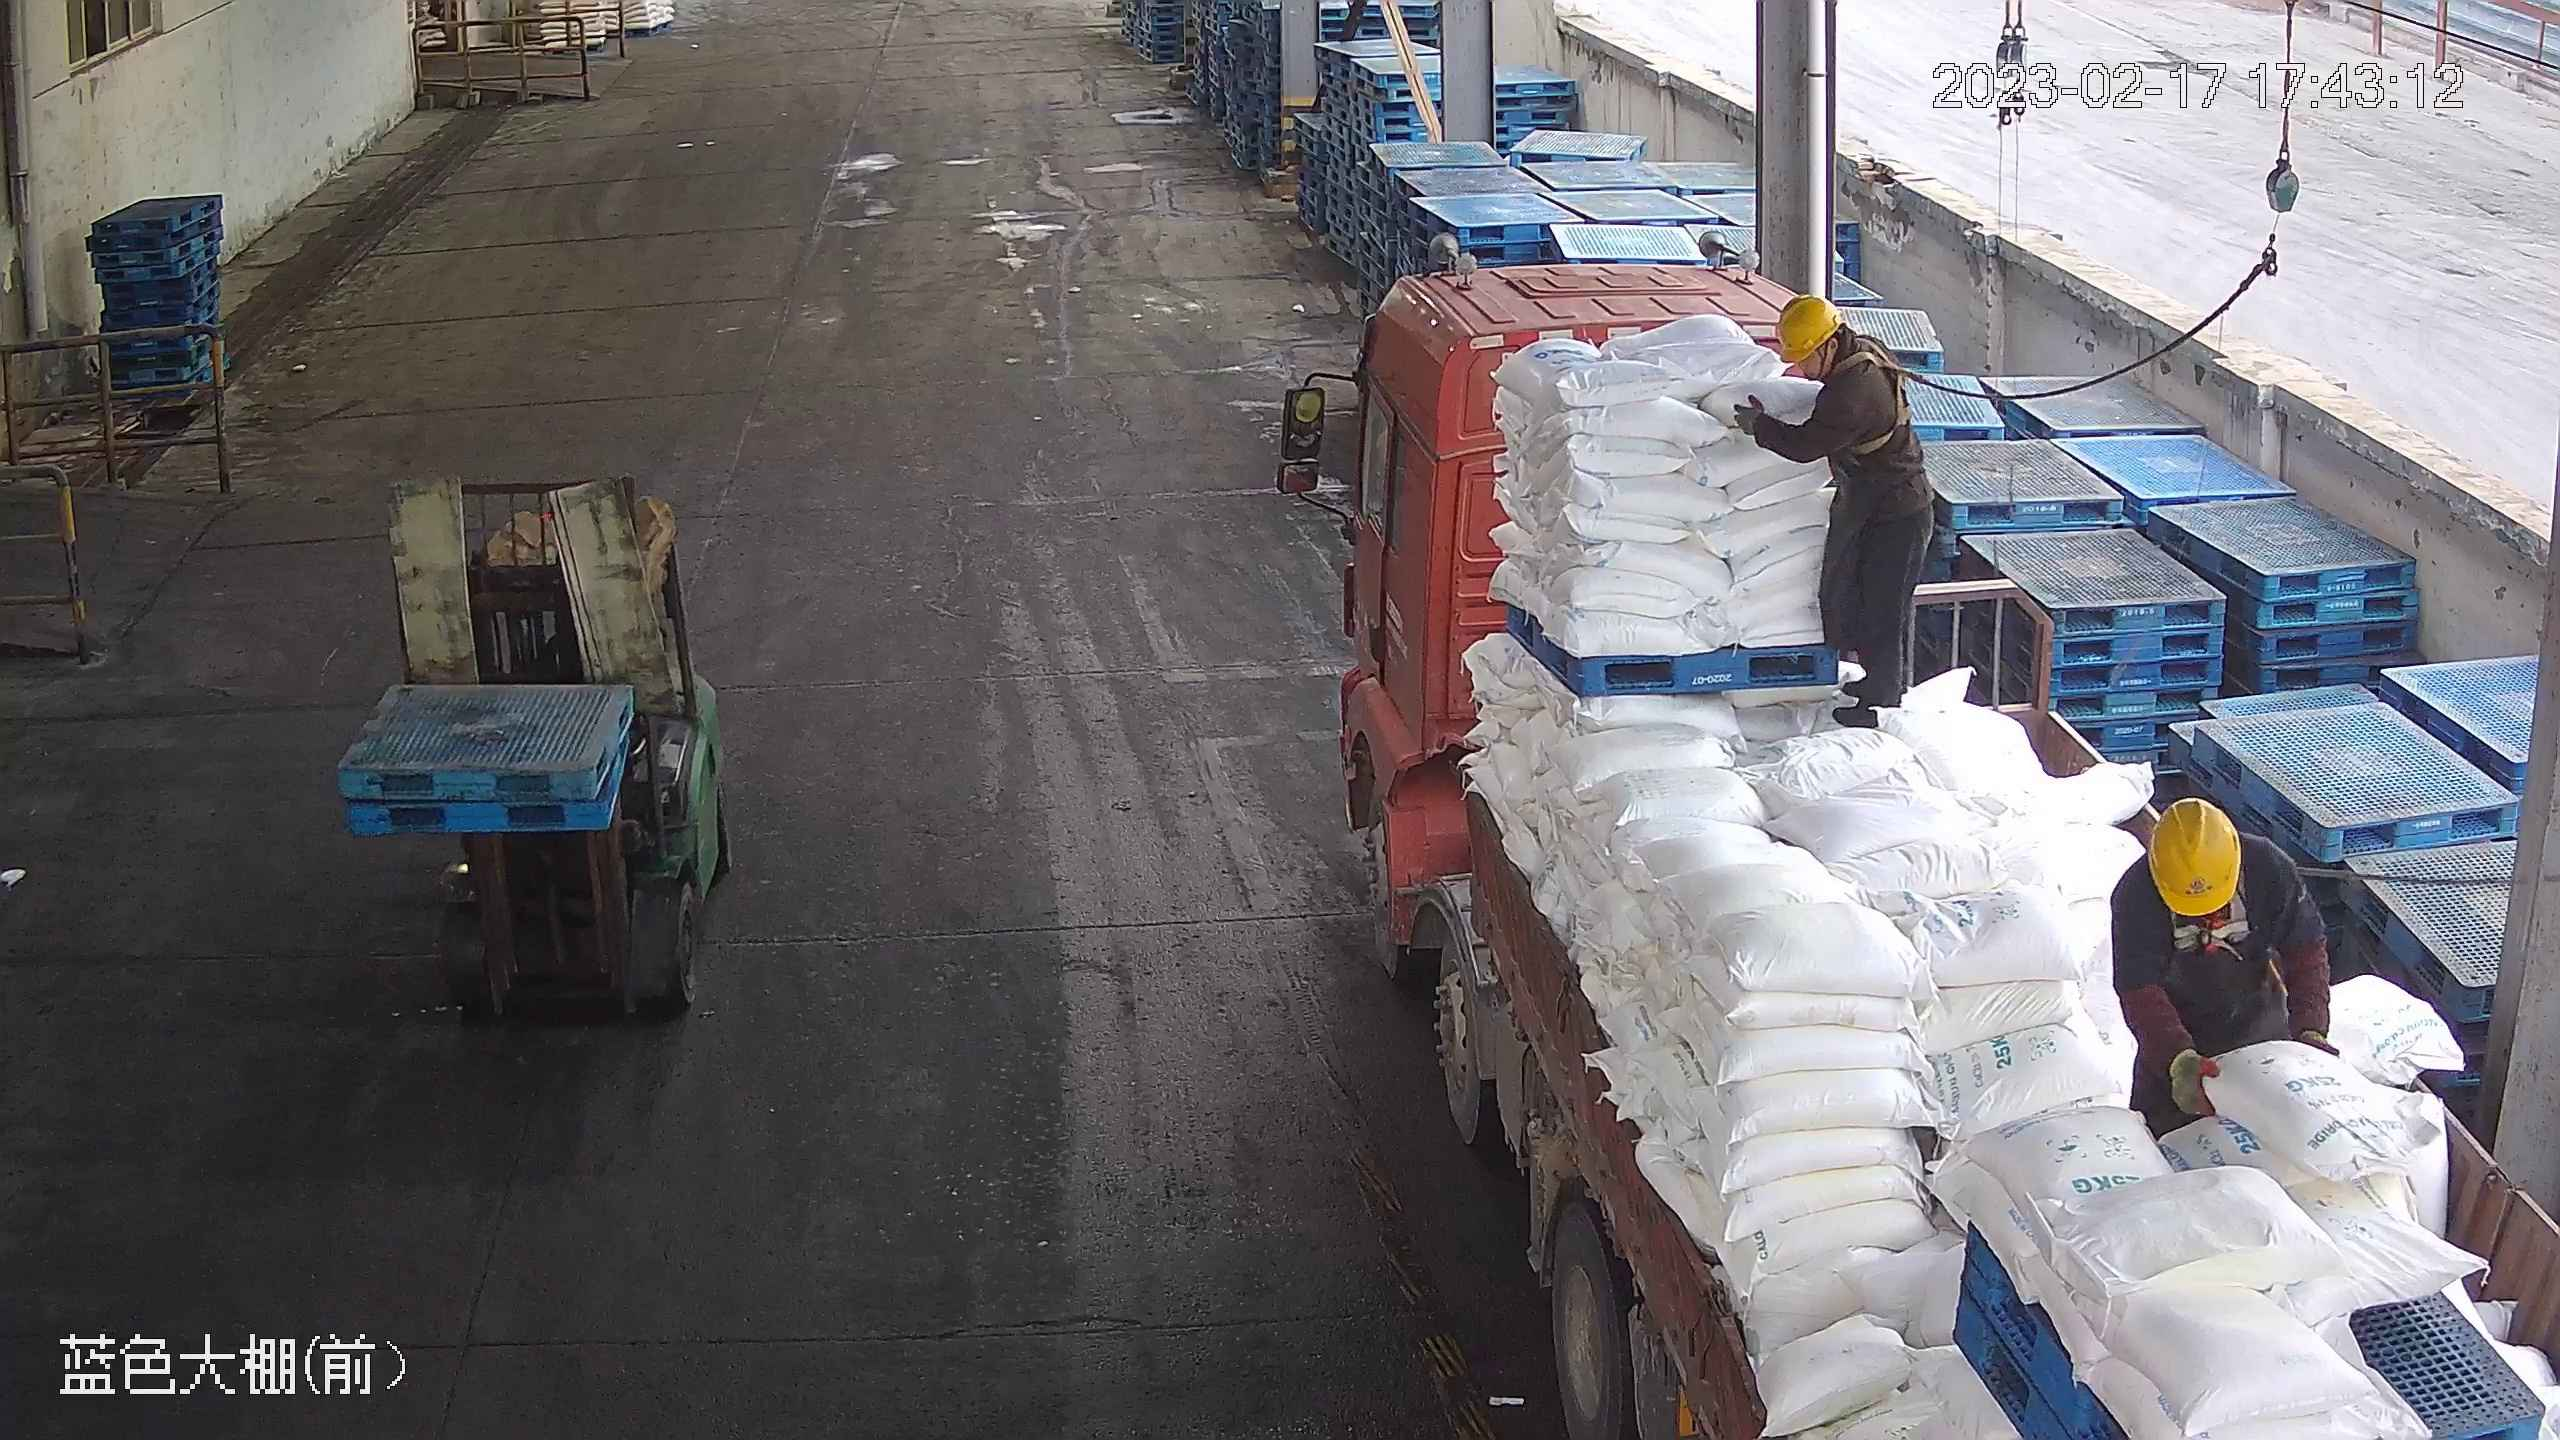belt: (1832, 337, 1927, 461), (2166, 883, 2266, 950)
head: (2117, 796, 2300, 950), (1749, 295, 1907, 440)
helmet: (2147, 801, 2245, 918), (1774, 291, 1845, 367)
people: (1732, 289, 1932, 730), (2106, 796, 2339, 1142)
truck: (1262, 240, 2551, 1440)
